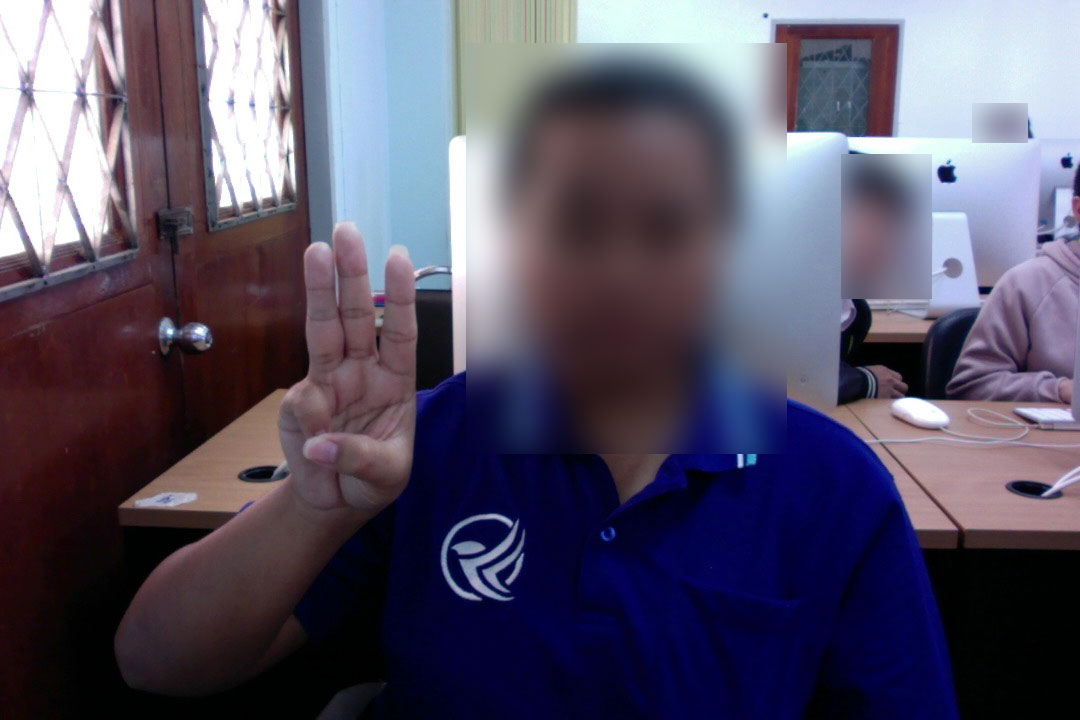wor: (277, 226, 434, 510)
